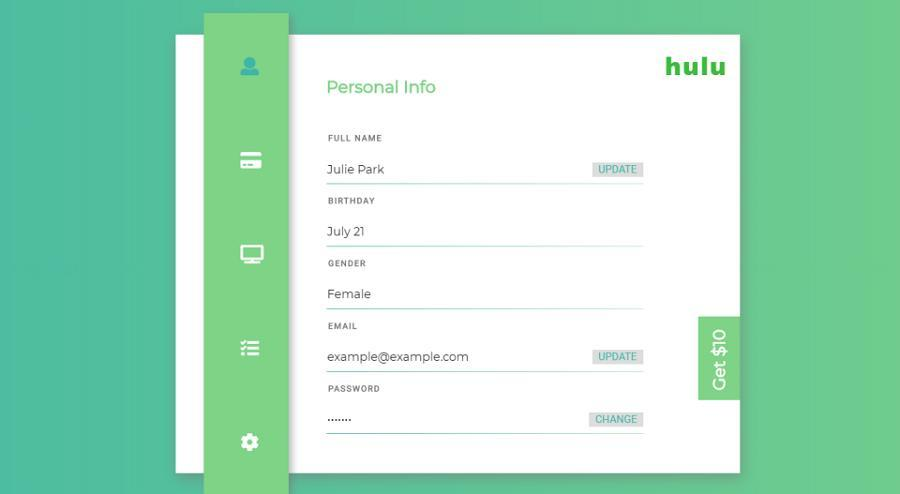button: (325, 81, 439, 99), (592, 350, 645, 365), (594, 163, 646, 178), (589, 414, 644, 427)
icon: (233, 240, 272, 274), (234, 50, 271, 84), (234, 148, 268, 178), (236, 336, 266, 365), (238, 430, 263, 458)
label: (327, 132, 385, 147), (327, 195, 379, 208), (327, 386, 384, 395), (329, 257, 367, 270), (326, 321, 359, 333)
